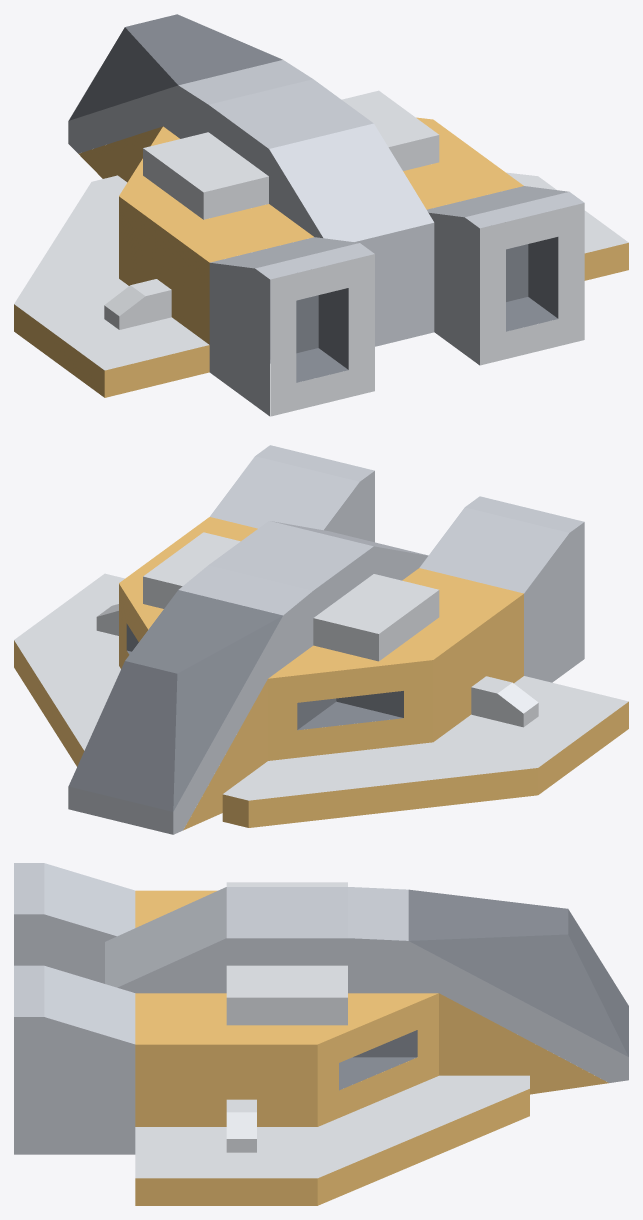
File: craft_speederB.glb
3 renders of one model, top to bottom at view 1: azimuth 30°, elevation 25°; view 2: azimuth 150°, elevation 25°; view 3: azimuth 270°, elevation 25°, orthographic.
Visible parts, largest first — view 1: craft_speederB; view 2: craft_speederB; view 3: craft_speederB.
Boxes of the visible parts, x1,y1,x2,y2 form: craft_speederB: (14,14,628,416); craft_speederB: (14,445,628,834); craft_speederB: (14,863,628,1205).
Size of the model in its own units: 2 by 0.6 by 2.03.
